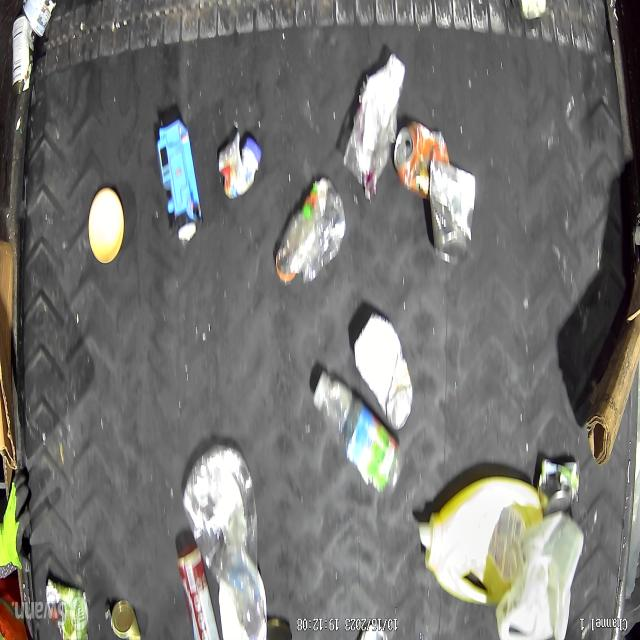can: (353, 310, 413, 432), (428, 159, 476, 266), (393, 119, 450, 201), (537, 456, 574, 516), (11, 14, 34, 97), (23, 0, 57, 40), (109, 599, 142, 640)
milk_jug: (495, 511, 584, 640)
non_white_jug: (420, 474, 543, 608)
plastic_bottle: (182, 446, 268, 640), (310, 366, 406, 502), (273, 175, 347, 288)
